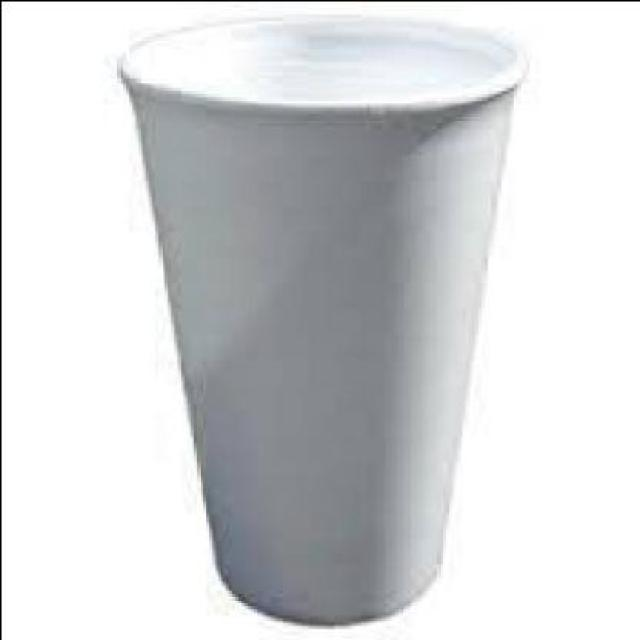PAPER: (112, 13, 518, 621)
